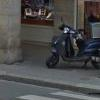Motorcycle: (36, 17, 100, 78)
